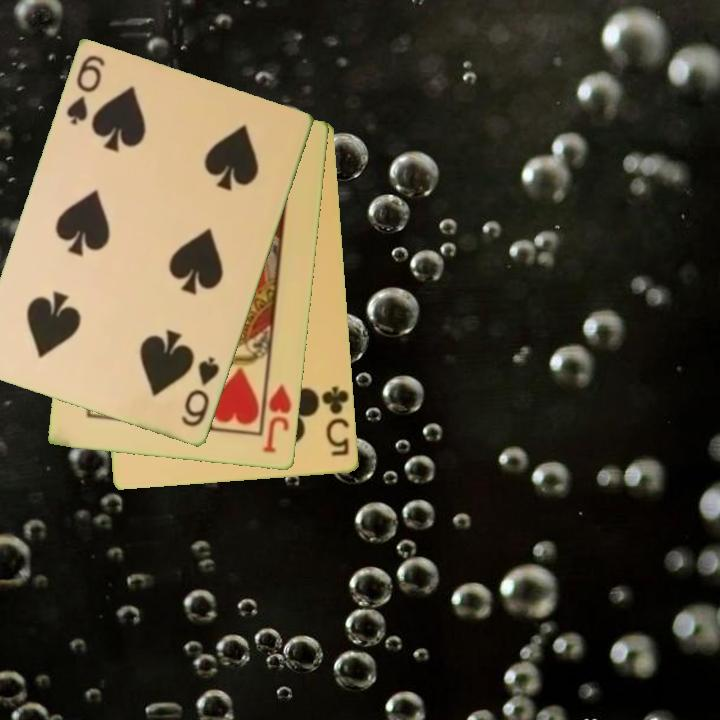5c: (316, 383, 353, 460)
6s: (177, 354, 223, 431), (63, 52, 108, 129)
Jh: (260, 381, 295, 457)
